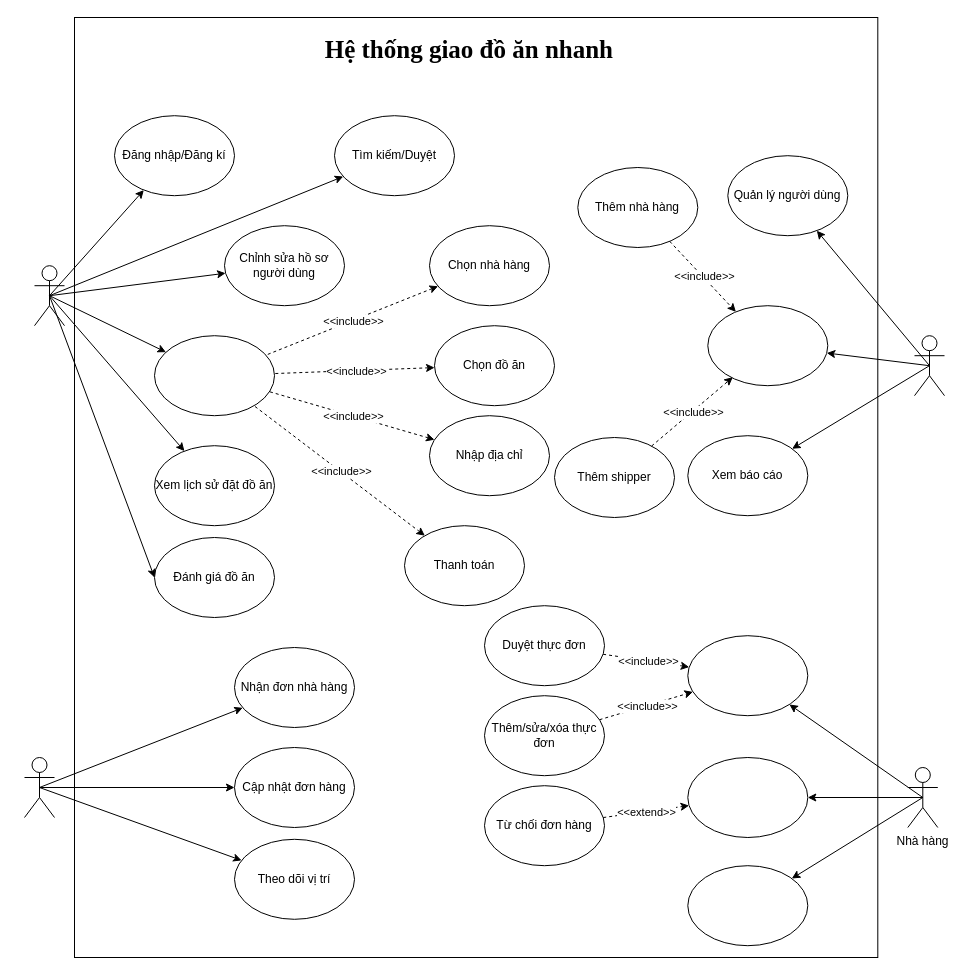
Image size: 980x975. Some labels were removed from this diagram. The centre of each missing label's shape, as x and y in pixels:
"Khách hàng" belongs at (x=49, y=295).
"Quá trình đặt đơn" belongs at (x=747, y=797).
"Quản lý nhà hàng/ shipper" belongs at (x=767, y=345).
"Quản lý thực đơn" belongs at (x=747, y=675).
"Quản trị viên" belongs at (x=929, y=365).
"Shipper" belongs at (x=39, y=787).
"Thống kê doanh thu" belongs at (x=747, y=905).
"Đặt đồ ăn" belongs at (x=214, y=375).
